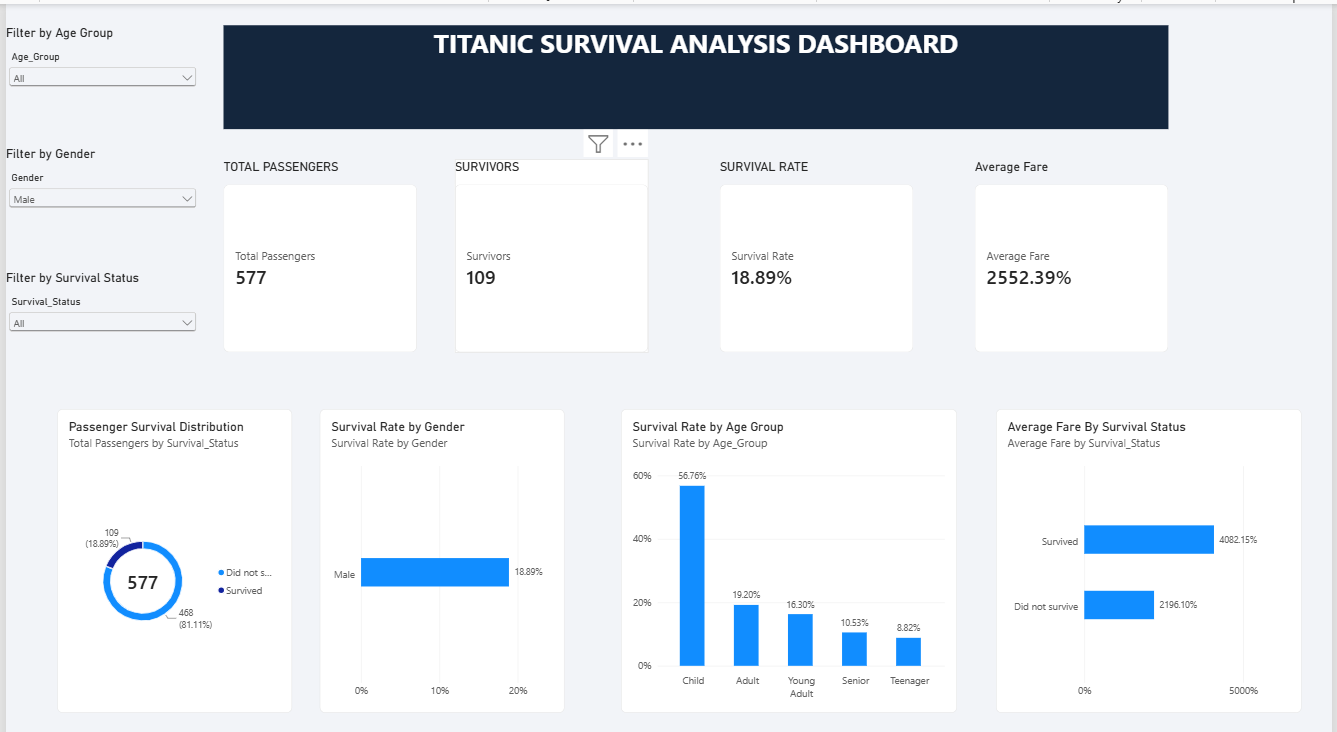

The page's visual inventory and layout, read from the dashboard file:
{"tool":"powerbi","page":{"name":"Page 1","canvas":[1920,1080],"ordinal":0},"visuals":[{"type":"cardVisual","title":"TOTAL PASSENGERS","fields":{"Data":["TITANIC.Total Passengers"]},"box":[314,224,280,280],"z":0},{"type":"cardVisual","title":"SURVIVAL RATE","fields":{"Data":["TITANIC.Survival Rate"]},"box":[1034,224,280,280],"z":1000},{"type":"cardVisual","title":"Average Fare","fields":{"Data":["TITANIC.Average Fare"]},"box":[1402,224,280,280],"z":2000},{"type":"cardVisual","title":"SURVIVORS","fields":{"Data":["TITANIC.Survivors"]},"box":[650,224,280,280],"z":3000},{"type":"donutChart","title":"Passenger Survival Distribution","fields":{"Category":["TITANIC.Survival_Status"],"Y":["TITANIC.Total Passengers"]},"box":[74,586,340,440],"z":4000},{"type":"clusteredBarChart","title":"Survival Rate by Gender","fields":{"Category":["TITANIC.Gender"],"Y":["TITANIC.Survival Rate"]},"box":[454,586,354,440],"z":5000},{"type":"clusteredColumnChart","title":"Survival Rate by Age Group","fields":{"Category":["TITANIC.Age_Group"],"Y":["TITANIC.Survival Rate"]},"box":[890,586,486,440],"z":6000},{"type":"clusteredBarChart","title":"Average Fare By Survival Status","fields":{"Category":["TITANIC.Survival_Status"],"Y":["TITANIC.Average Fare"]},"box":[1434,586,442,440],"z":7000},{"type":"slicer","title":"Filter by Gender","fields":{"Values":["TITANIC.Gender"]},"box":[0,206,280,158],"z":8000},{"type":"slicer","title":"Filter by Age Group","fields":{"Values":["TITANIC.Age_Group"]},"box":[0,30,280,150],"z":9000},{"type":"slicer","title":"Filter by Survival Status","fields":{"Values":["TITANIC.Survival_Status"]},"box":[0,386,280,180],"z":10000},{"type":"textbox","box":[314,386,280,180],"z":11000},{"type":"textbox","box":[314,30,1368,150],"z":12000}]}

Visuals, with their boxes on the page's 1920x1080 design canvas (x1, y1, x2, y2). These are canvas units, not pixel positions in the 1337x732 screenshot, which may show the page scaled, cropped or inside an application window:
"TOTAL PASSENGERS" cardVisual: {"left": 314, "top": 224, "right": 594, "bottom": 504}
"SURVIVAL RATE" cardVisual: {"left": 1034, "top": 224, "right": 1314, "bottom": 504}
"Average Fare" cardVisual: {"left": 1402, "top": 224, "right": 1682, "bottom": 504}
"SURVIVORS" cardVisual: {"left": 650, "top": 224, "right": 930, "bottom": 504}
"Passenger Survival Distribution" donutChart: {"left": 74, "top": 586, "right": 414, "bottom": 1026}
"Survival Rate by Gender" clusteredBarChart: {"left": 454, "top": 586, "right": 808, "bottom": 1026}
"Survival Rate by Age Group" clusteredColumnChart: {"left": 890, "top": 586, "right": 1376, "bottom": 1026}
"Average Fare By Survival Status" clusteredBarChart: {"left": 1434, "top": 586, "right": 1876, "bottom": 1026}
"Filter by Gender" slicer: {"left": 0, "top": 206, "right": 280, "bottom": 364}
"Filter by Age Group" slicer: {"left": 0, "top": 30, "right": 280, "bottom": 180}
"Filter by Survival Status" slicer: {"left": 0, "top": 386, "right": 280, "bottom": 566}
textbox: {"left": 314, "top": 386, "right": 594, "bottom": 566}
textbox: {"left": 314, "top": 30, "right": 1682, "bottom": 180}
